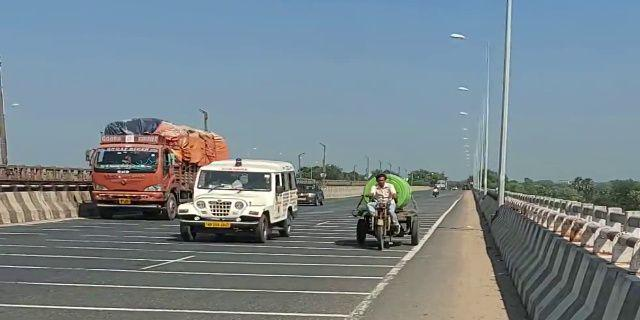Car: (178, 157, 300, 247), (296, 180, 326, 208)
Truck: (85, 121, 195, 215)
Van: (349, 166, 425, 254)
